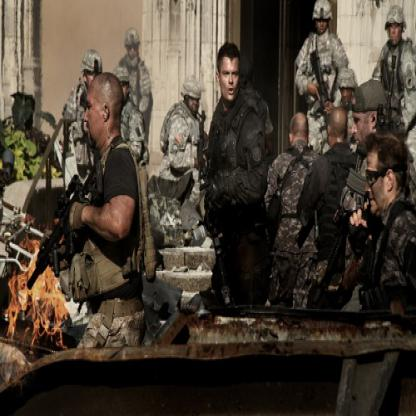Guns: (24, 157, 105, 289), (346, 52, 396, 208), (307, 46, 334, 133), (196, 107, 208, 180)
